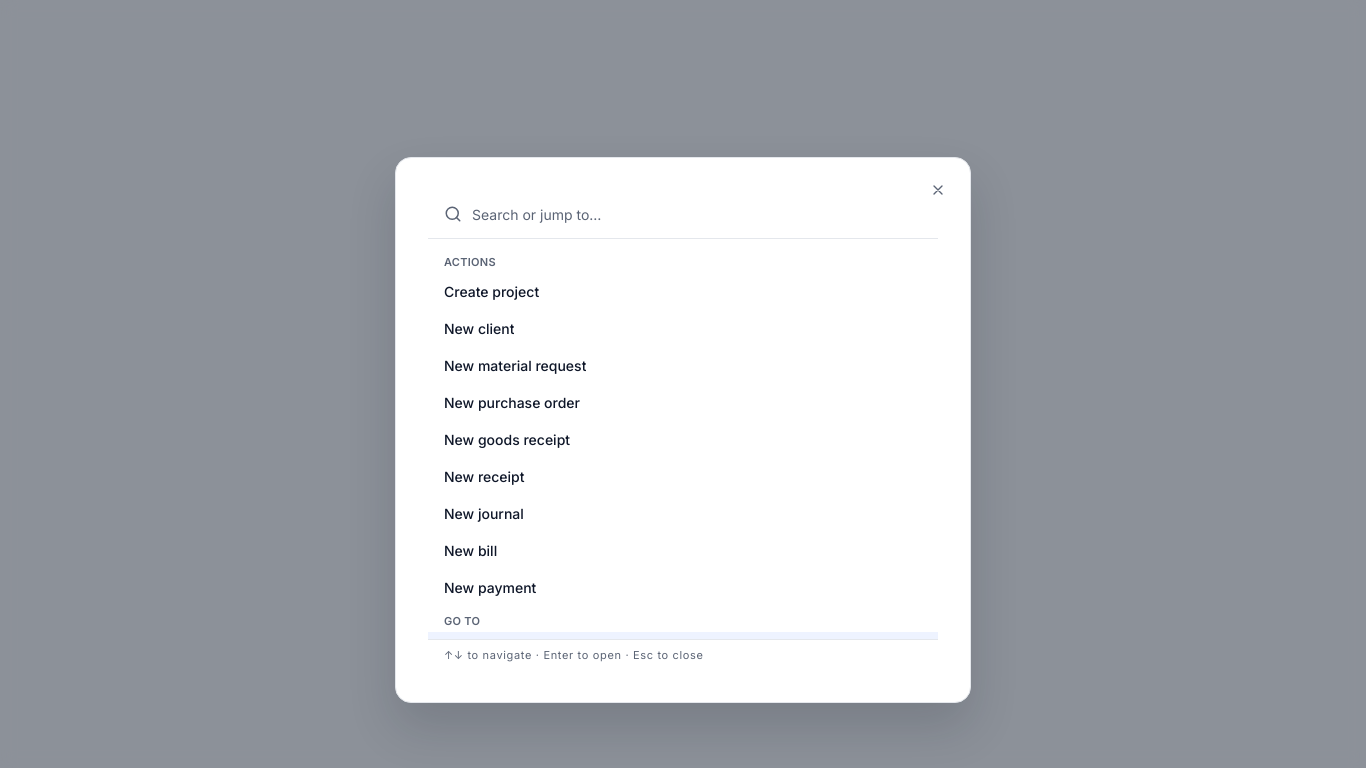
Test: CommandMenu › shows a real empty state when nothing matches
Type "zzzznomatch" into the dropdown. click: (697, 214)
box: [472, 190, 922, 238]
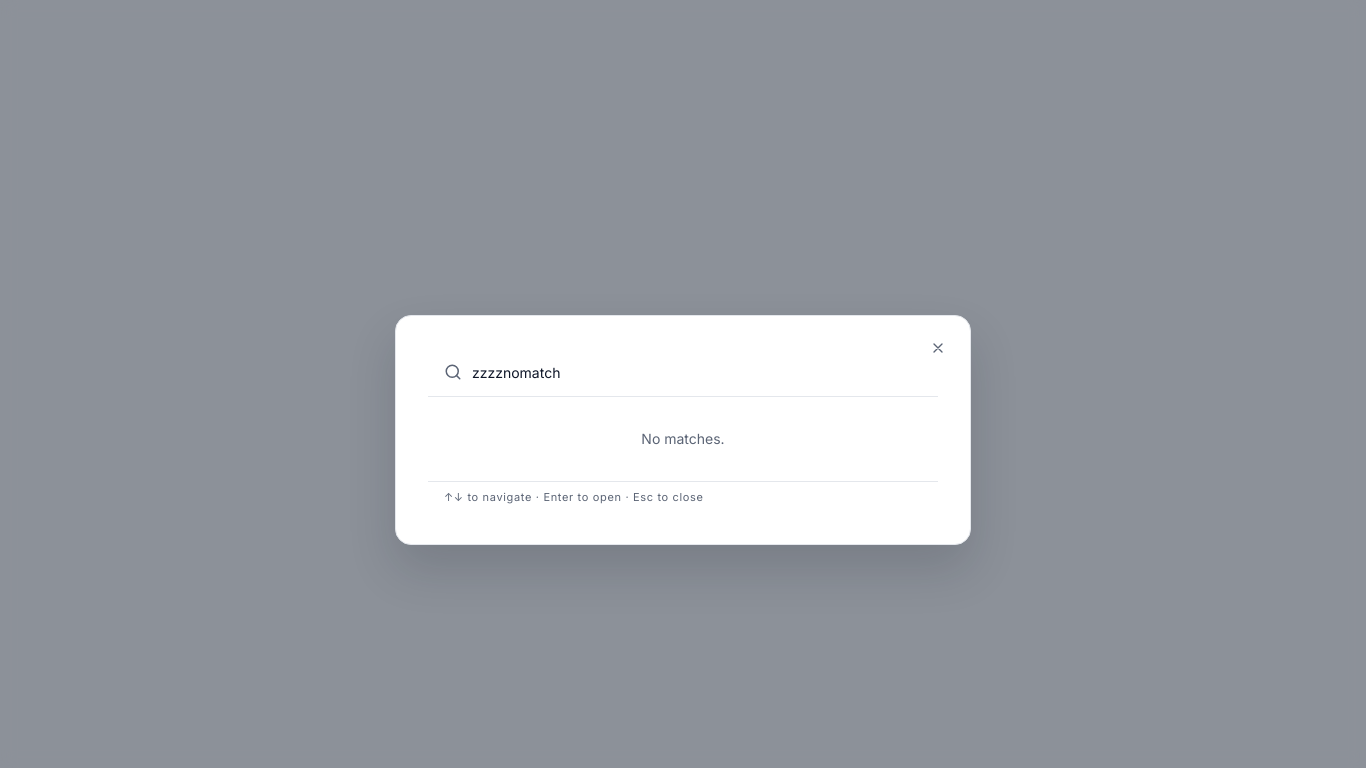
Expected: the list item "No matches." is shown, [641, 430, 725, 447]
Expected: the option is gone
